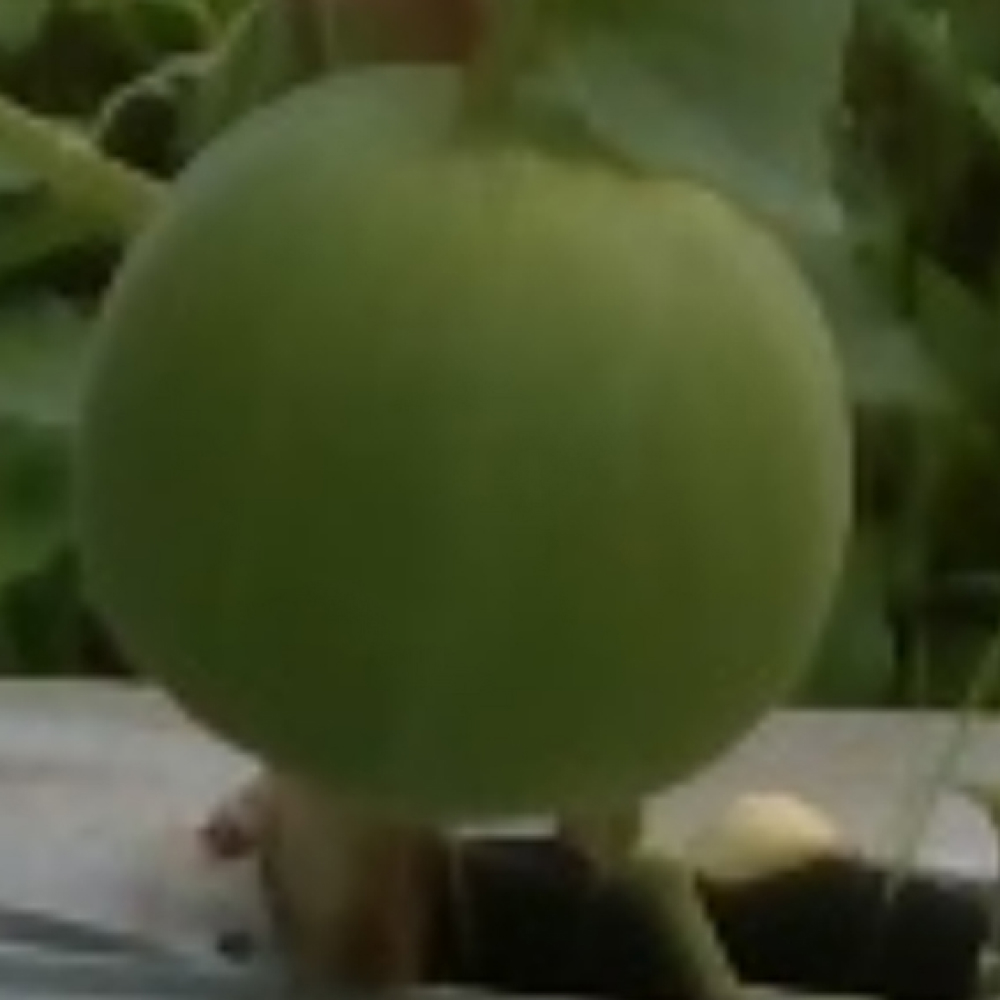melon: (69, 59, 864, 825)
